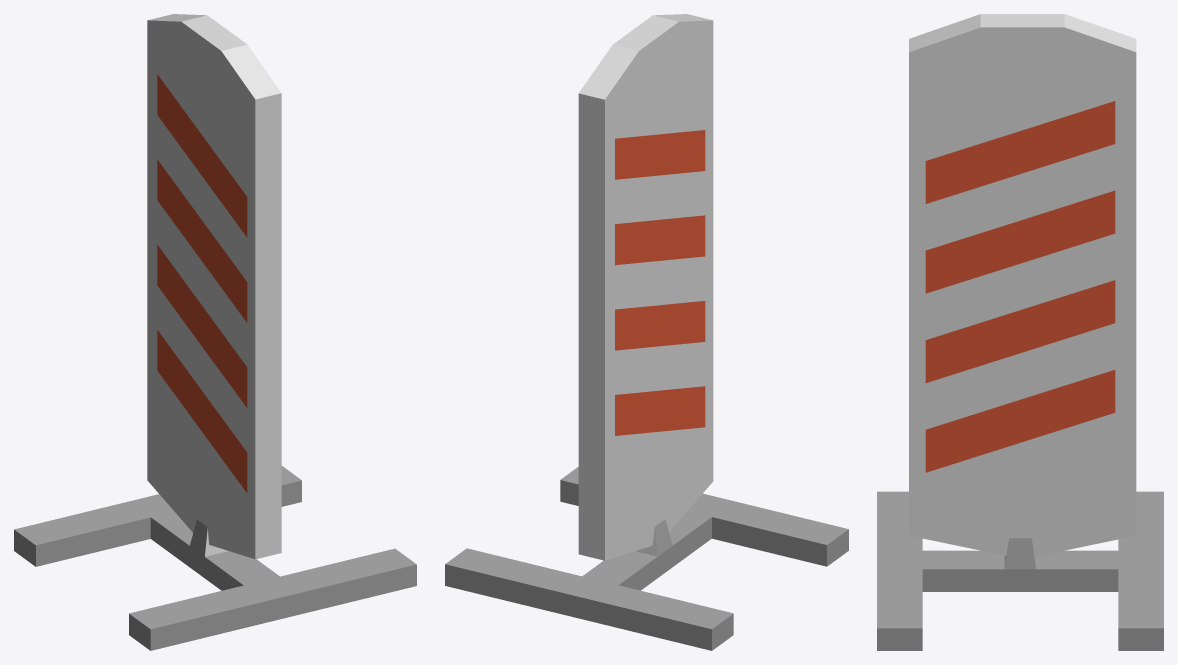
The model's file is Zabraa.fbx.
The picture shows the model from 3 angles, left to right: view 1: azimuth 30°, elevation 25°; view 2: azimuth 150°, elevation 25°; view 3: azimuth 270°, elevation 25°; orthographic projection. The views are drawn at different scales.
Visible parts, largest first — view 1: Plane.002; view 2: Plane.002; view 3: Plane.002.
Boxes of the visible parts, x1,y1,x2,y2 form: Plane.002: [14, 14, 416, 650]; Plane.002: [445, 14, 848, 650]; Plane.002: [877, 14, 1163, 650].
Bounding box in the file's own units: 24.68 × 47.36 × 21.92.
